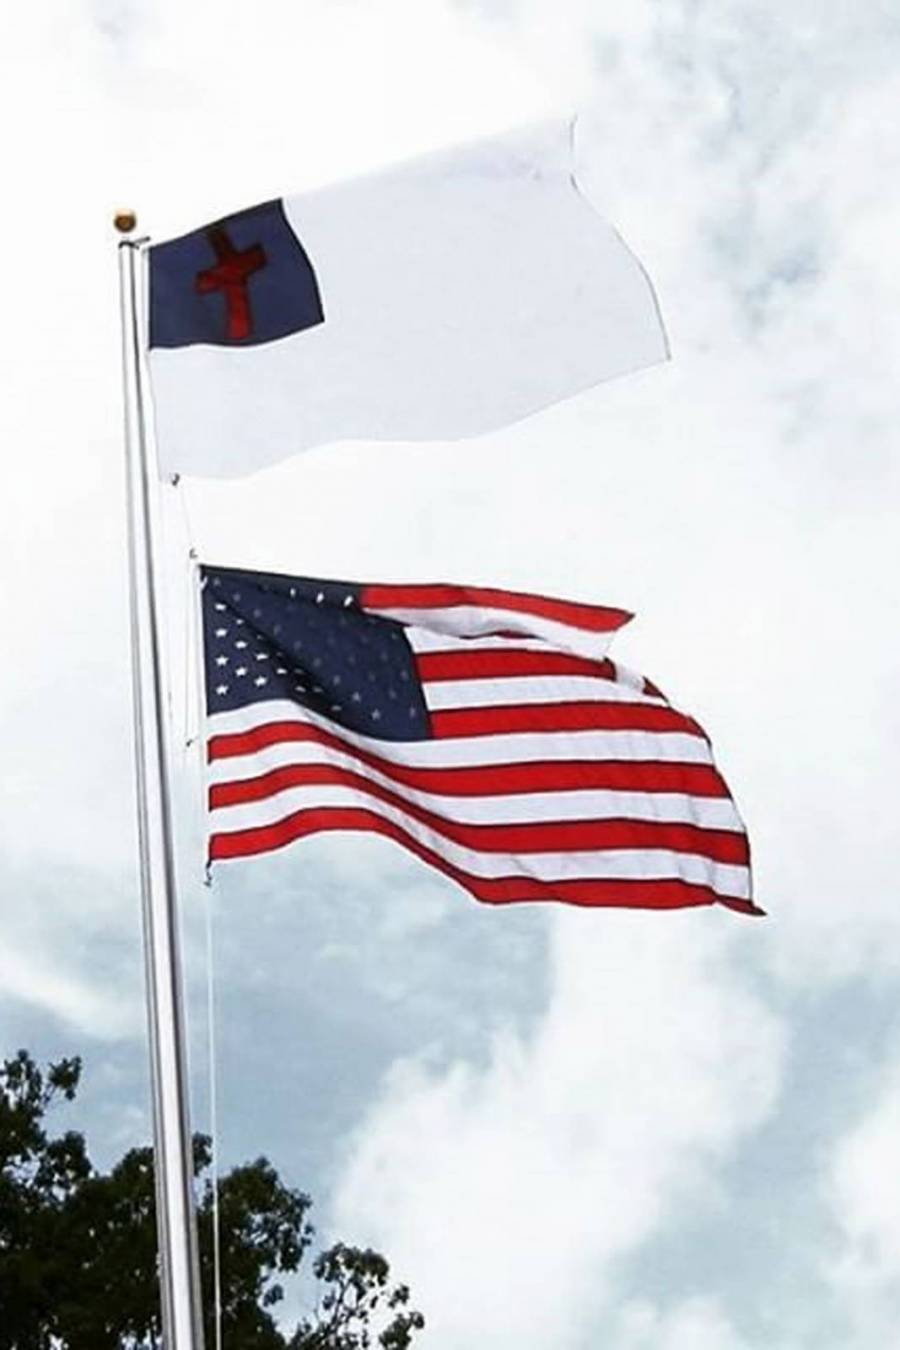Flag: (186, 560, 781, 957), (149, 102, 685, 493)
